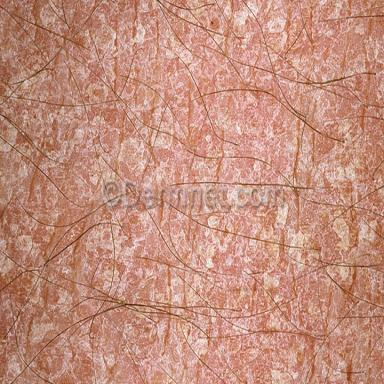Psoriasis: (0, 2, 383, 383)
